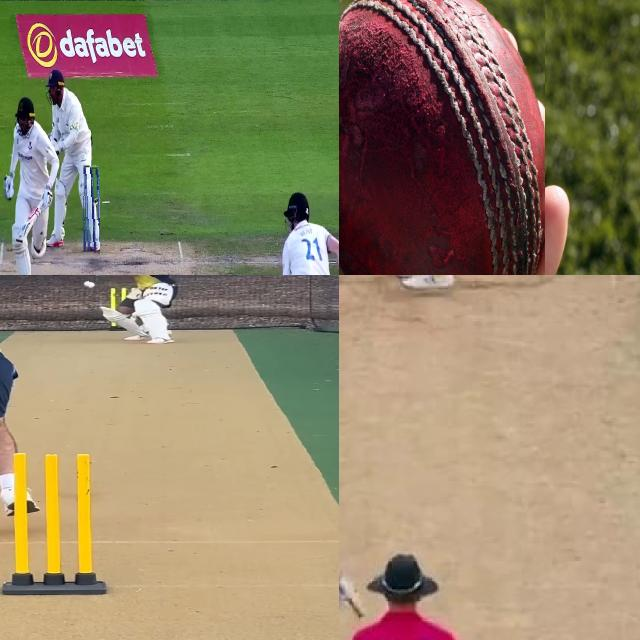Cricket ball: (339, 0, 545, 275), (81, 279, 98, 289)
Stumps: (0, 450, 107, 596), (82, 162, 100, 259)
